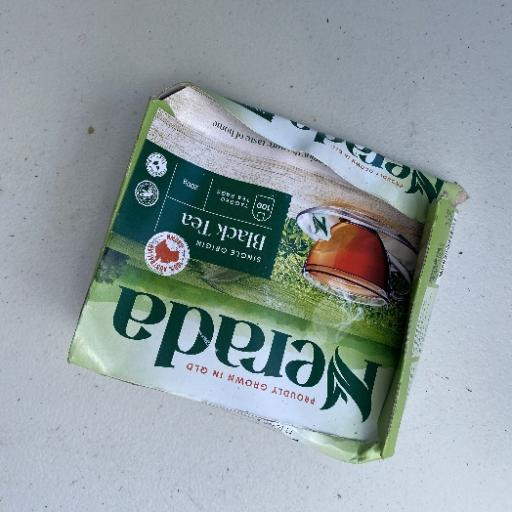Cardboard: (66, 81, 468, 464)
